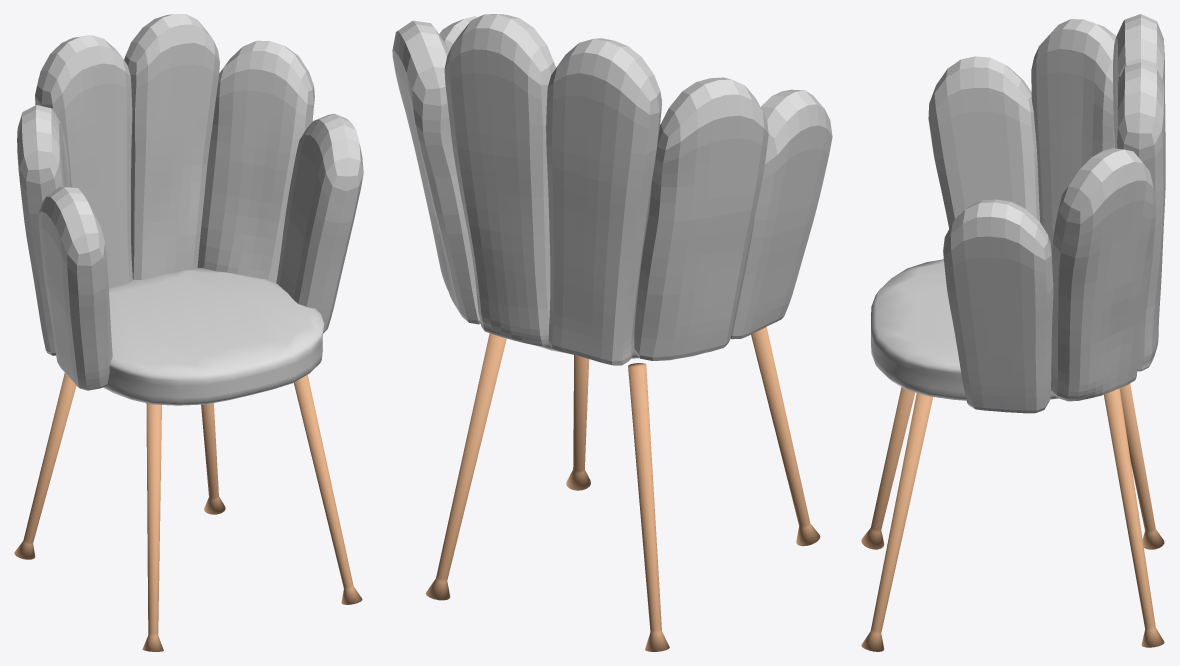
Rendered from chair2.fbx.
3 renders of one model, left to right at view 1: azimuth 30°, elevation 25°; view 2: azimuth 150°, elevation 25°; view 3: azimuth 270°, elevation 25°, orthographic. The views are drawn at different scales.
Visible parts, largest first — view 1: seat, Cylinder.002, Cylinder.003, Cylinder.001, Cylinder; view 2: seat, Cylinder.001, Cylinder, Cylinder.002, Cylinder.003; view 3: seat, Cylinder.003, Cylinder, Cylinder.002, Cylinder.001.
Part boxes in pixels (box(x1,y1,x2,y2)): seat: box(17, 14, 363, 405); Cylinder.002: box(142, 403, 163, 651); Cylinder.003: box(294, 375, 362, 604); Cylinder.001: box(14, 372, 76, 559); Cylinder: box(201, 403, 225, 514); seat: box(392, 14, 832, 365); Cylinder.001: box(628, 363, 669, 651); Cylinder: box(425, 333, 506, 600); Cylinder.002: box(751, 327, 820, 546); Cylinder.003: box(566, 355, 590, 490); seat: box(871, 14, 1165, 413); Cylinder.003: box(861, 393, 932, 651); Cylinder: box(1104, 388, 1164, 647); Cylinder.002: box(861, 387, 914, 549); Cylinder.001: box(1120, 383, 1164, 549).
Size of the model in its own units: 284 by 443 by 220.
